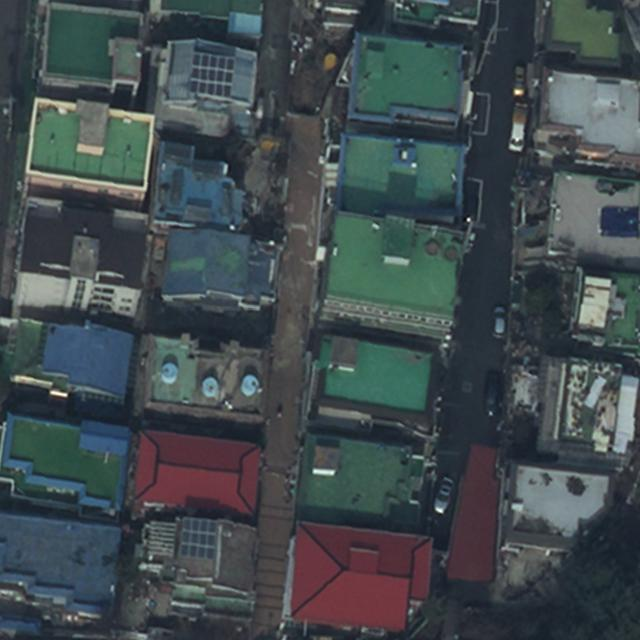solarpanel: (188, 50, 236, 97), (176, 516, 216, 558)
